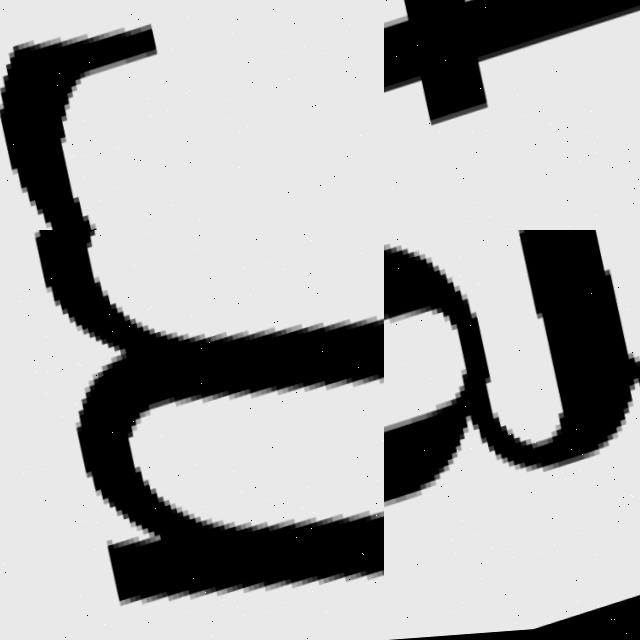C: (0, 22, 158, 230)
G: (384, 230, 640, 581)
M: (0, 230, 384, 640)
T: (384, 0, 640, 181)
